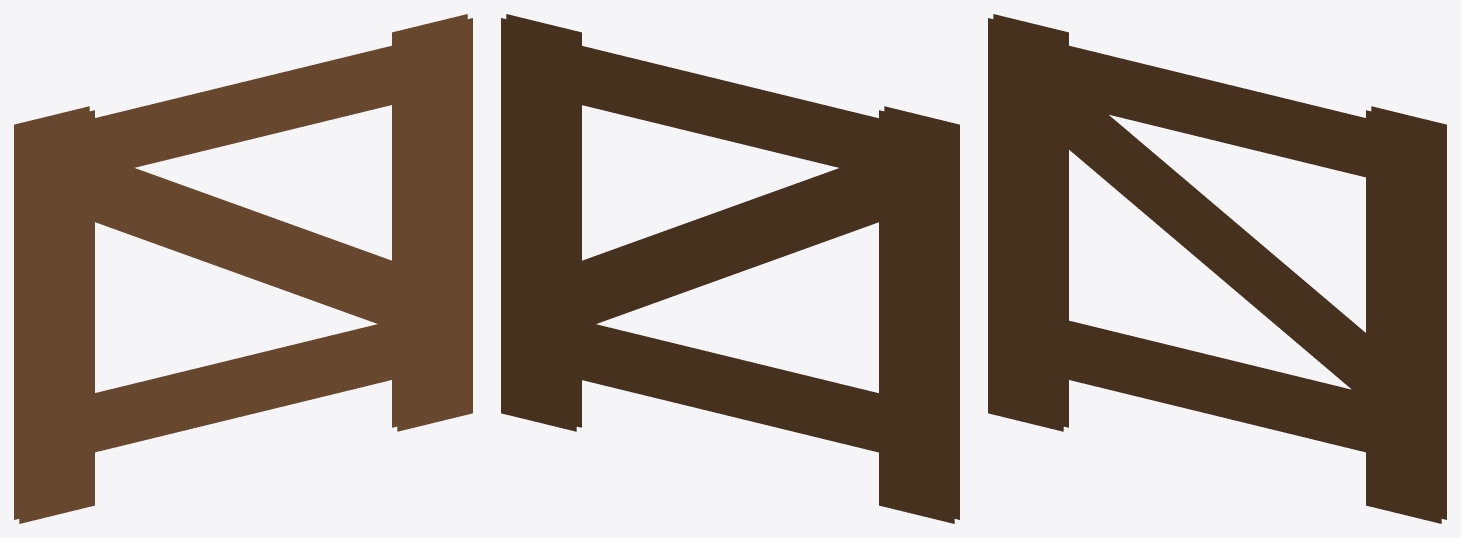
The model's file is FenceAEndLOD2.fbx.
3 renders of one model, left to right at view 1: azimuth 30°, elevation 25°; view 2: azimuth 150°, elevation 25°; view 3: azimuth 330°, elevation 25°, orthographic.
Visible parts, largest first — view 1: FenceAEndLOD2; view 2: FenceAEndLOD2; view 3: FenceAEndLOD2.
Boxes of the visible parts, x1,y1,x2,y2 form: FenceAEndLOD2: (14, 14, 472, 523); FenceAEndLOD2: (501, 14, 959, 523); FenceAEndLOD2: (988, 14, 1446, 523).
Size of the model in its own units: 120 by 100 by 2.47.
